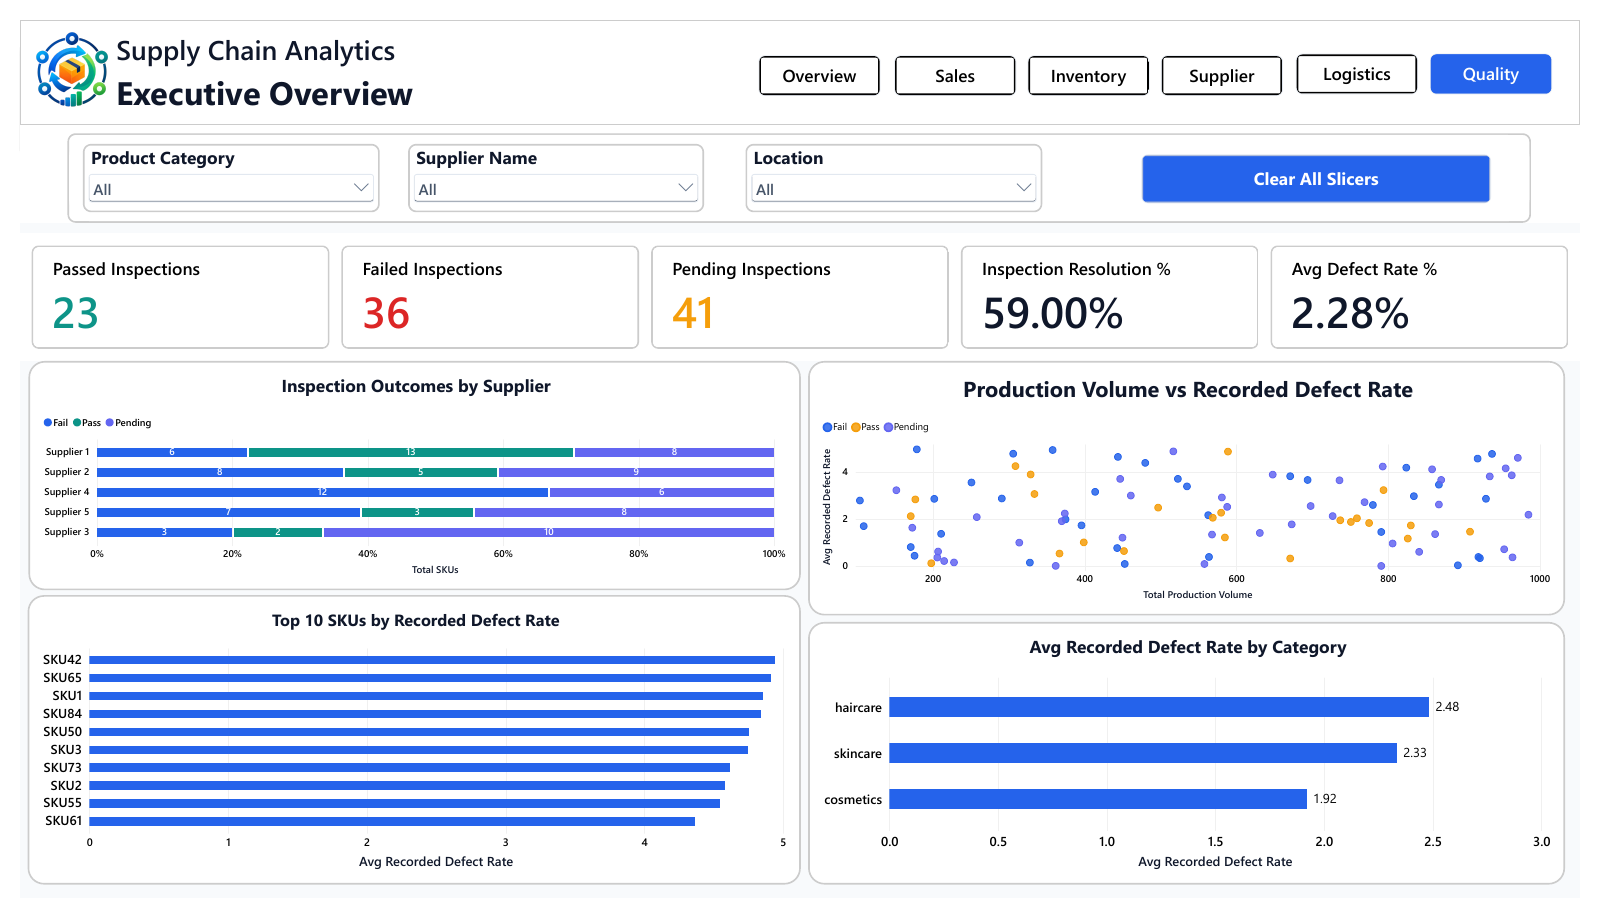

Layout of this report page (visuals, bound fields, positions):
{"tool":"powerbi","page":{"name":"Quality Control & Risk","canvas":[1920,1080],"ordinal":5},"visuals":[{"type":"group","id":"g1","title":"Group 1","box":[0,0,1920.4,249.5],"z":0},{"type":"shape","box":[59.3,139.5,1800,110],"z":0,"group":"g1"},{"type":"cardVisual","fields":{"Data":["SupplyChain.Passed Inspections","SupplyChain.Failed Inspections","SupplyChain.Pending Inspections","SupplyChain.Inspection Resolution %","SupplyChain.Avg Defect Rate %"]},"box":[0,263.4,1920.4,157],"z":1},{"type":"hundredPercentStackedBarChart","title":"Inspection Outcomes by Supplier","fields":{"Category":["SupplyChain.Supplier Name"],"Series":["SupplyChain.Inspection Results"],"Y":["SupplyChain.Total SKUs"]},"box":[10.8,420,950,281.7],"z":2},{"type":"scatterChart","title":"Production Volume vs Recorded Defect Rate","fields":{"Category":["SupplyChain.SKU"],"Series":["SupplyChain.Inspection Results"],"X":["SupplyChain.Total Production Volume"],"Y":["SupplyChain.Avg Recorded Defect Rate"]},"box":[969.8,420.4,931.4,312.2],"z":3},{"type":"clusteredBarChart","title":"Top 10 SKUs by Recorded Defect Rate","fields":{"Category":["SupplyChain.SKU"],"Y":["SupplyChain.Avg Recorded Defect Rate"]},"box":[10.5,708.1,950.6,355.8],"z":4},{"type":"clusteredBarChart","title":"Avg Recorded Defect Rate by Category","fields":{"Category":["SupplyChain.Product Category"],"Y":["SupplyChain.Avg Recorded Defect Rate"]},"box":[970,741,931,323],"z":5},{"type":"shape","box":[0,0,1920.4,130],"z":1000,"group":"g1"},{"type":"image","box":[10.7,7.3,107.7,110.8],"z":2000,"group":"g1"},{"type":"textbox","title":"Supply Chain Analytics","box":[118.7,14,350.6,48.8],"z":3000,"group":"g1"},{"type":"textbox","title":"Executive Overview","box":[118.7,62.7,371.5,54.1],"z":4000,"group":"g1"},{"type":"actionButton","box":[1076.2,43.6,150,50],"z":5000,"group":"g1"},{"type":"actionButton","box":[1240.1,43.6,150,50],"z":6000,"group":"g1"},{"type":"actionButton","box":[1404.1,43.6,150,50],"z":7000,"group":"g1"},{"type":"actionButton","box":[908.7,43.6,150,50],"z":8000,"group":"g1"},{"type":"actionButton","box":[1569.8,41.9,150,50],"z":9000,"group":"g1"},{"type":"actionButton","box":[1735.5,41.9,150,50],"z":10000,"group":"g1"},{"type":"slicer","fields":{"Values":["SupplyChain.Product Category"]},"box":[78.5,153.5,364.5,83.7],"z":11000,"group":"g1"},{"type":"slicer","fields":{"Values":["SupplyChain.Supplier Name"]},"box":[477.9,153.5,364.5,83.7],"z":12000,"group":"g1"},{"type":"slicer","fields":{"Values":["SupplyChain.Location"]},"box":[893,153.5,364.5,83.7],"z":13000,"group":"g1"},{"type":"actionButton","box":[1379.7,165.7,430.8,60],"z":14000,"group":"g1"}]}

Visuals, with their boxes in screenshot pixels (x1, y1, x2, y2), scaled from the page's 1920x1080 canvas onto the 1600x918 screenshot:
"Group 1" group: crop(0, 0, 1599, 212)
shape: crop(49, 119, 1549, 212)
cardVisual - SupplyChain.Passed Inspections x SupplyChain.Failed Inspections: crop(0, 224, 1599, 357)
"Inspection Outcomes by Supplier" hundredPercentStackedBarChart: crop(9, 357, 801, 596)
"Production Volume vs Recorded Defect Rate" scatterChart: crop(808, 357, 1584, 623)
"Top 10 SKUs by Recorded Defect Rate" clusteredBarChart: crop(9, 602, 801, 904)
"Avg Recorded Defect Rate by Category" clusteredBarChart: crop(808, 630, 1584, 904)
shape: crop(0, 0, 1599, 110)
image: crop(9, 6, 99, 100)
"Supply Chain Analytics" textbox: crop(99, 12, 391, 53)
"Executive Overview" textbox: crop(99, 53, 408, 99)
actionButton: crop(897, 37, 1022, 80)
actionButton: crop(1033, 37, 1158, 80)
actionButton: crop(1170, 37, 1295, 80)
actionButton: crop(757, 37, 882, 80)
actionButton: crop(1308, 36, 1433, 78)
actionButton: crop(1446, 36, 1571, 78)
slicer - SupplyChain.Product Category: crop(65, 130, 369, 202)
slicer - SupplyChain.Supplier Name: crop(398, 130, 702, 202)
slicer - SupplyChain.Location: crop(744, 130, 1048, 202)
actionButton: crop(1150, 141, 1509, 192)
